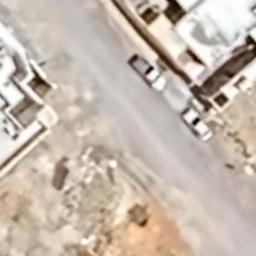pickup: (129, 52, 170, 92)
sedan: (180, 106, 213, 143)
